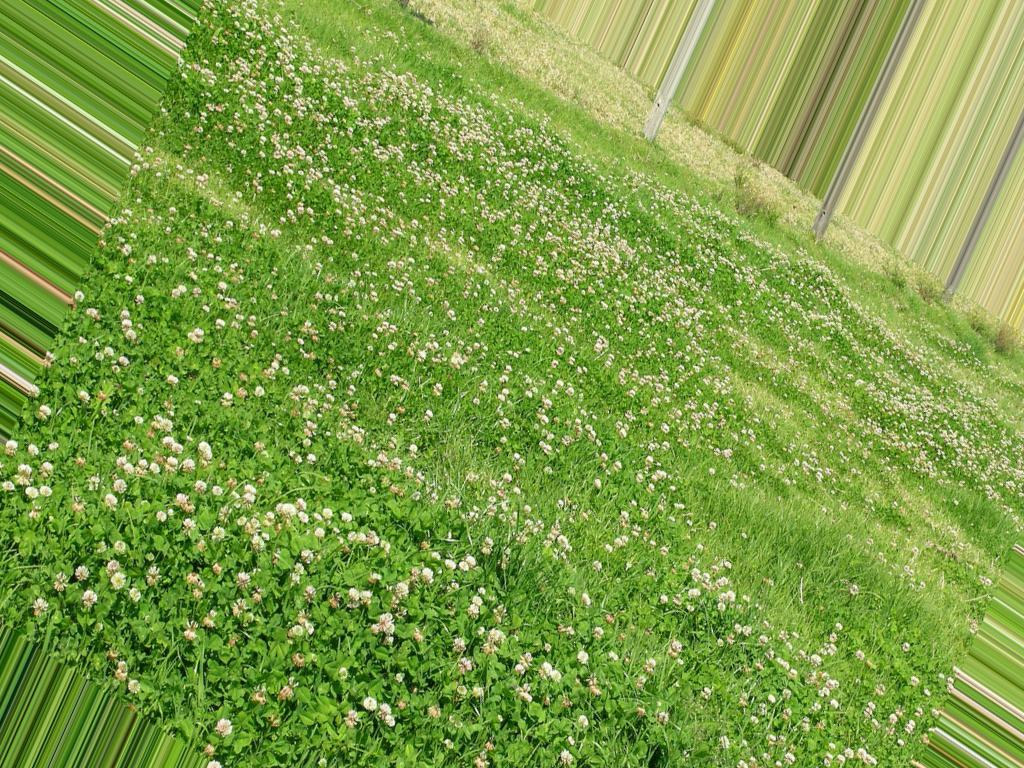patch: (662, 128, 847, 217), (560, 60, 707, 141), (423, 4, 627, 55), (811, 211, 906, 265)
